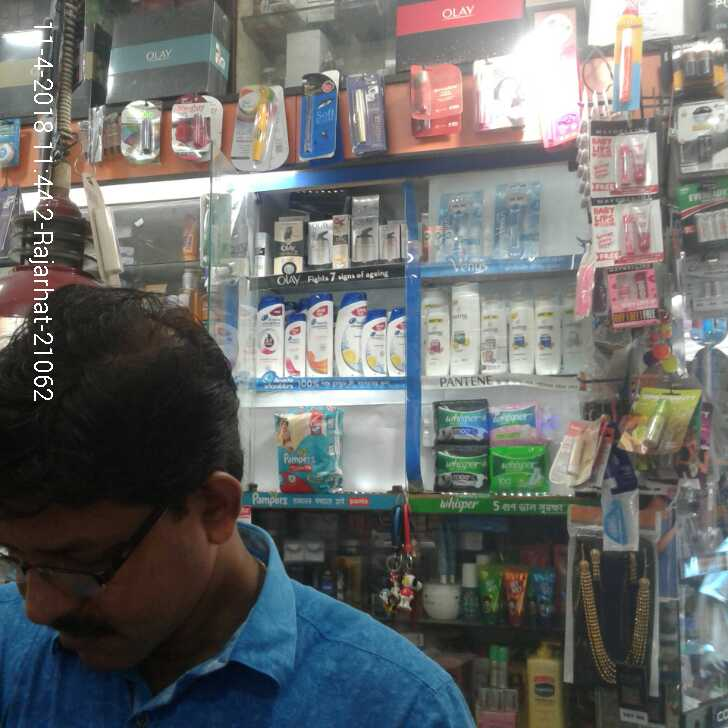venus: (493, 180, 541, 259), (441, 189, 481, 261)
